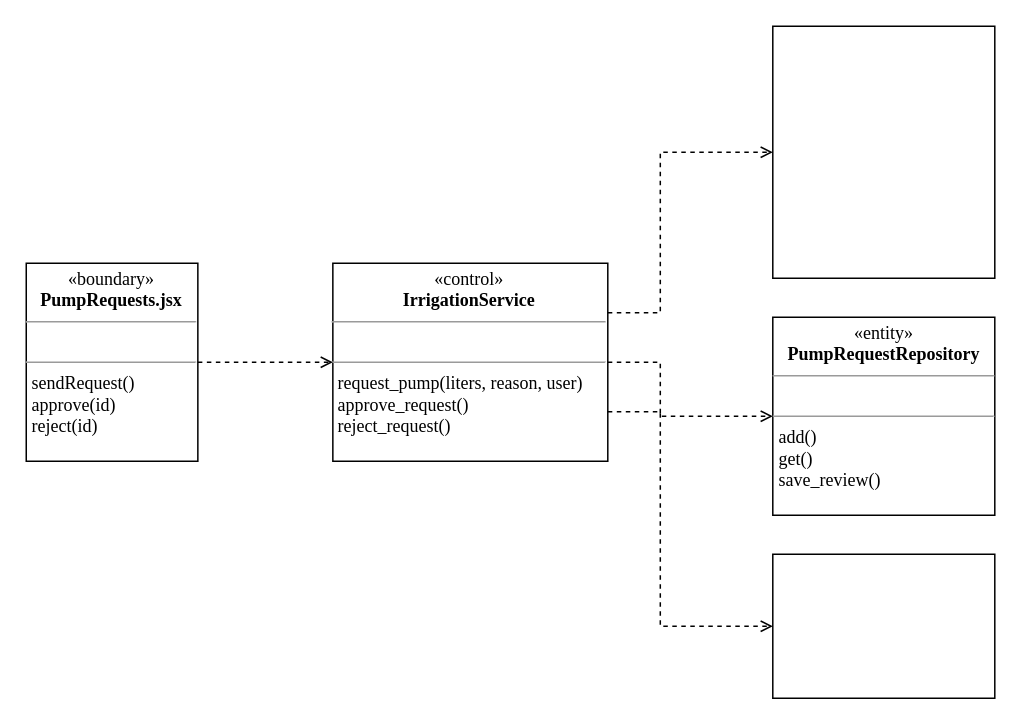
This 1022x725 diagram has some shape labels left out. Here are the shapes that lost their labels. From the top down, the centre of each, then its label:
At (x=883, y=151): "«entity» PumpRequest liters reason status create() approve() reject()".
At (x=883, y=625): "«entity» PumpRepository queue()".
